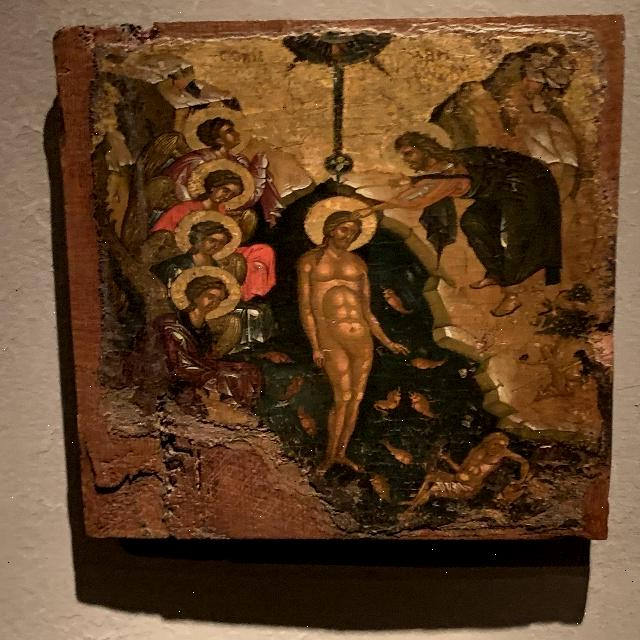aura: (374, 117, 455, 176), (187, 158, 263, 207), (306, 198, 377, 249), (170, 269, 241, 320), (173, 211, 244, 260), (185, 105, 254, 155)
christ_baptism: (298, 192, 386, 476)
saint: (368, 121, 557, 302), (145, 266, 241, 403)
wing: (117, 176, 172, 240), (121, 264, 171, 330), (126, 132, 187, 177), (210, 323, 253, 354), (235, 209, 265, 239)
